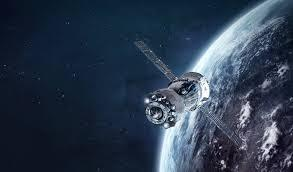body: (142, 69, 213, 130)
solar: (198, 104, 245, 150), (133, 38, 179, 83)
